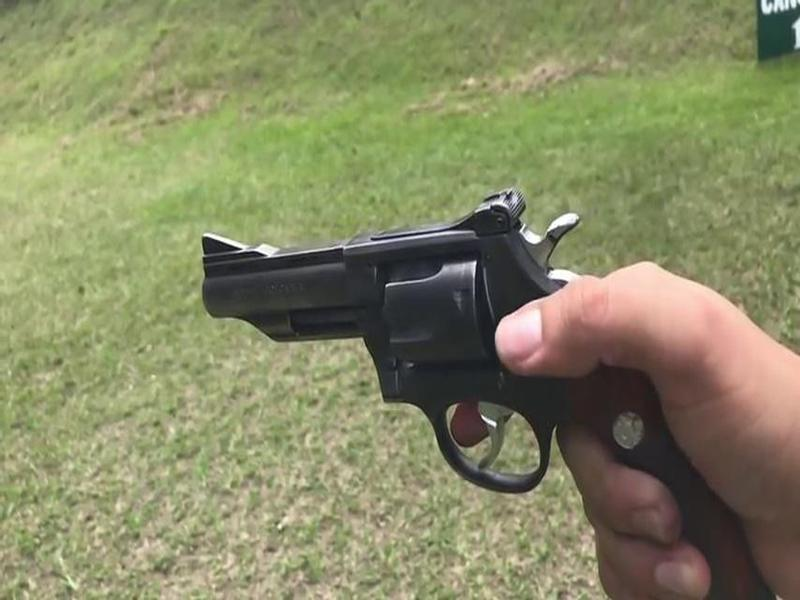Revolver: (198, 193, 653, 494)
